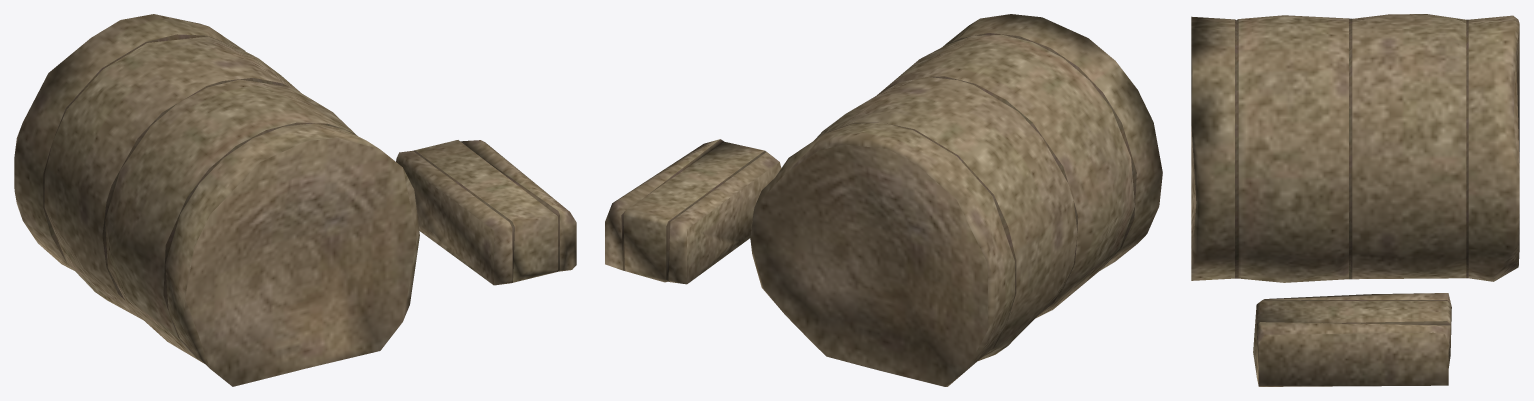
Rendered from hay-bales.lod1.glb.
3 views of the same model, side by side, from view 1: azimuth 30°, elevation 25°; view 2: azimuth 150°, elevation 25°; view 3: azimuth 270°, elevation 25° (orthographic). The views are drawn at different scales.
Parts seen in each view (by area): view 1: Object_4; view 2: Object_4; view 3: Object_4.
Part boxes in pixels (x1=…): Object_4: x1=14, y1=14, x2=576, y2=386; Object_4: x1=605, y1=14, x2=1162, y2=386; Object_4: x1=1191, y1=14, x2=1519, y2=386.
Bounding box in the file's own units: 3.55 × 1.81 × 2.42.
Materials: 1 (1 with a texture image).
